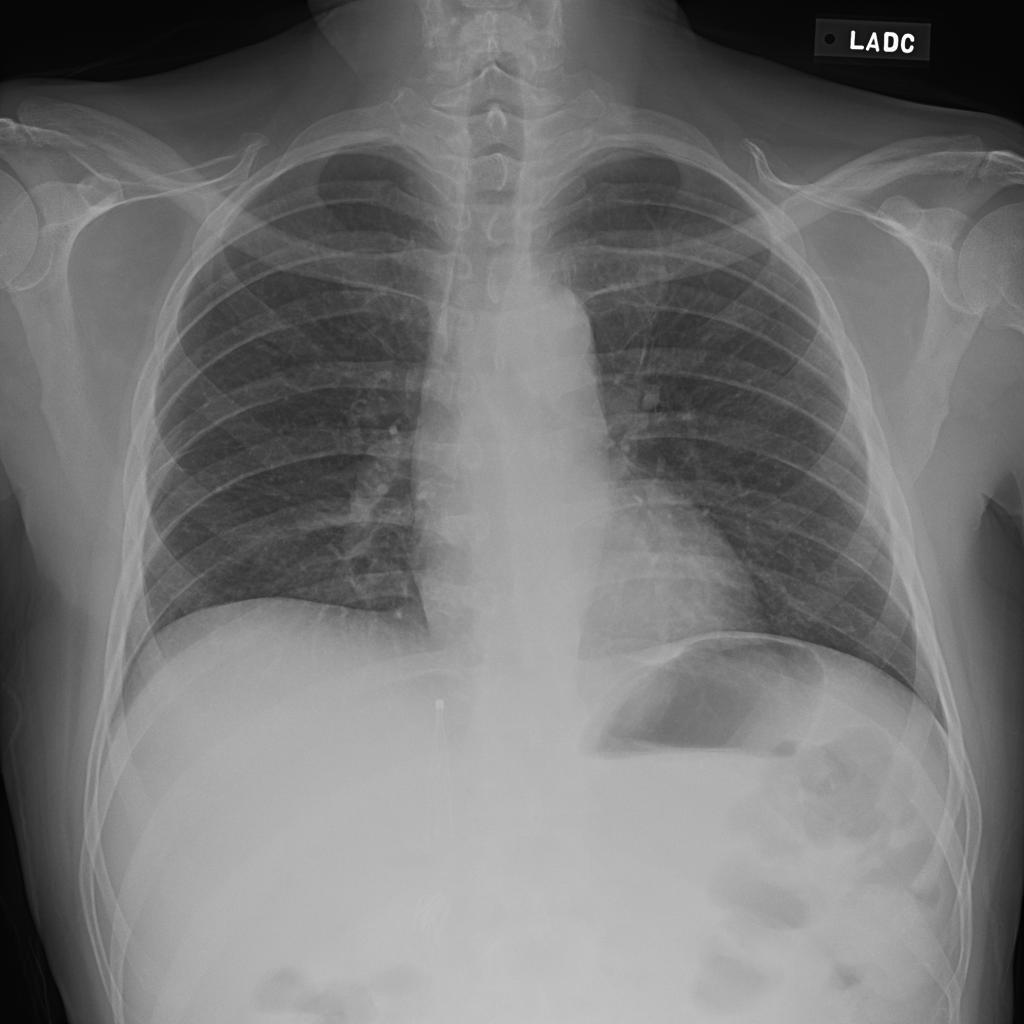Nodule: (203, 186, 230, 212)
